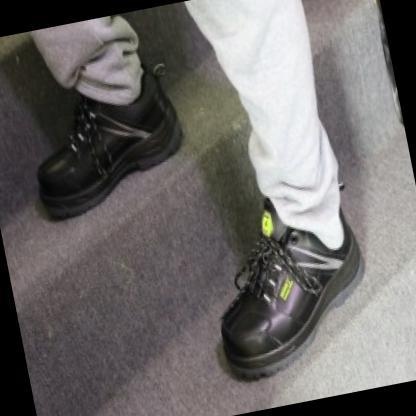safety-shoe: (184, 209, 395, 377), (21, 84, 212, 228)
